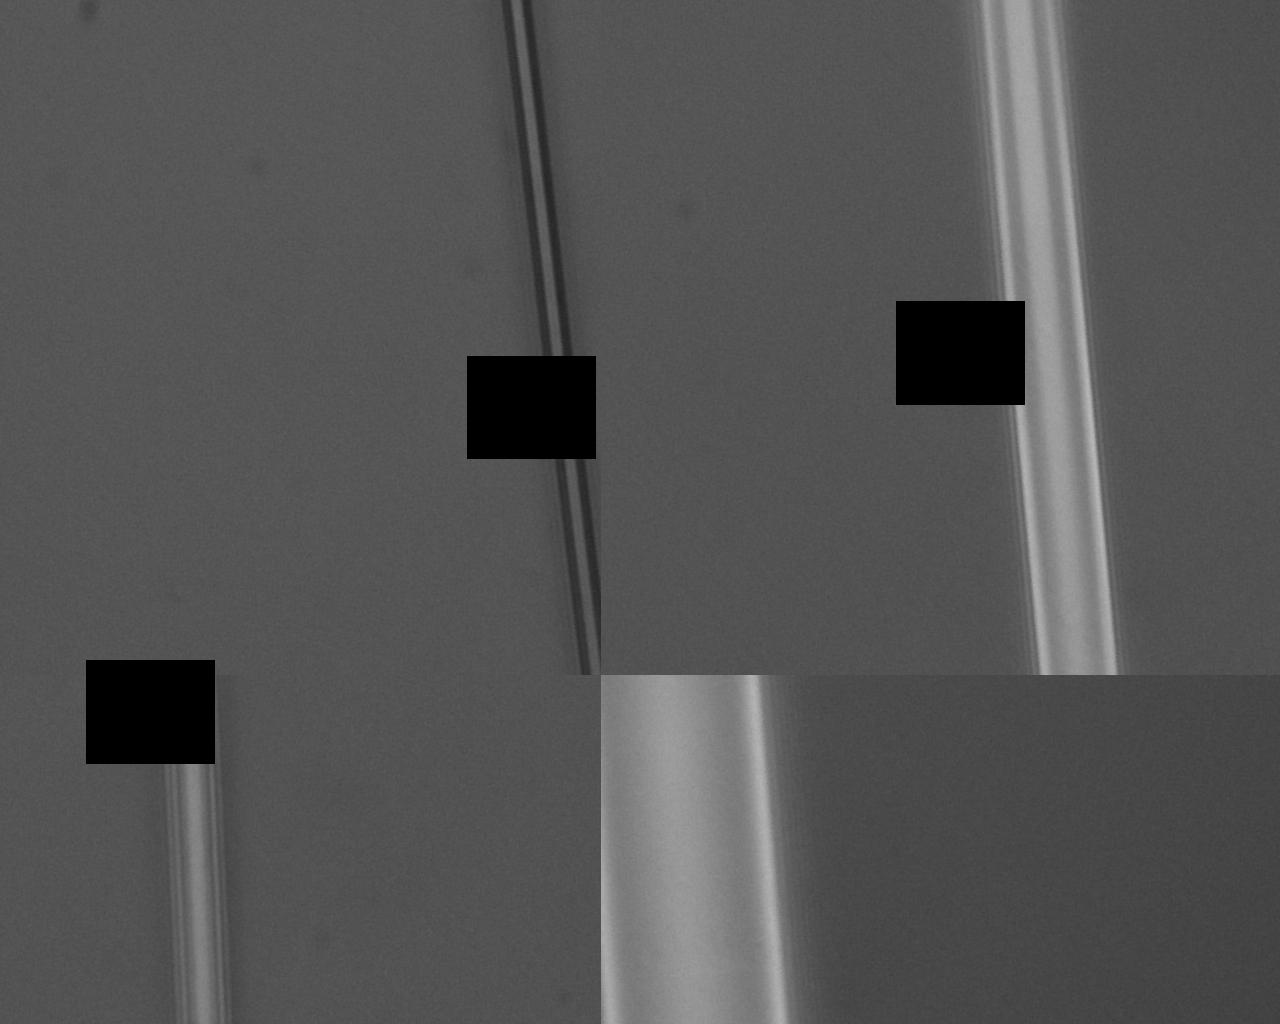fiber: (575, 655, 1171, 1024), (1, 0, 320, 655), (1141, 0, 1280, 655)
